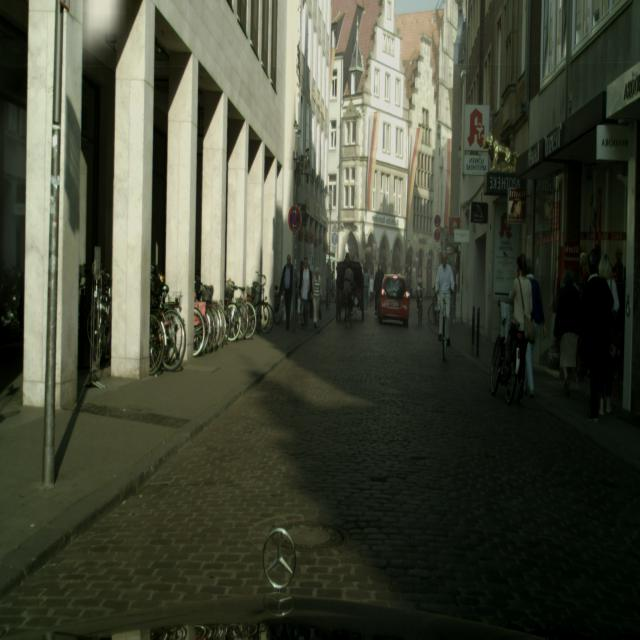car: (150, 271, 186, 371), (490, 301, 519, 404), (87, 270, 112, 369), (248, 273, 274, 334), (227, 286, 256, 339), (436, 291, 451, 361), (149, 312, 165, 374), (193, 301, 209, 355), (416, 282, 424, 326)
person: (580, 251, 613, 420), (506, 254, 533, 403), (522, 252, 547, 400), (553, 269, 581, 398), (433, 249, 456, 352), (278, 254, 294, 330), (341, 256, 355, 326), (300, 258, 312, 329), (312, 265, 322, 327), (373, 261, 384, 314), (416, 279, 424, 326)
truck: (378, 273, 410, 327)
